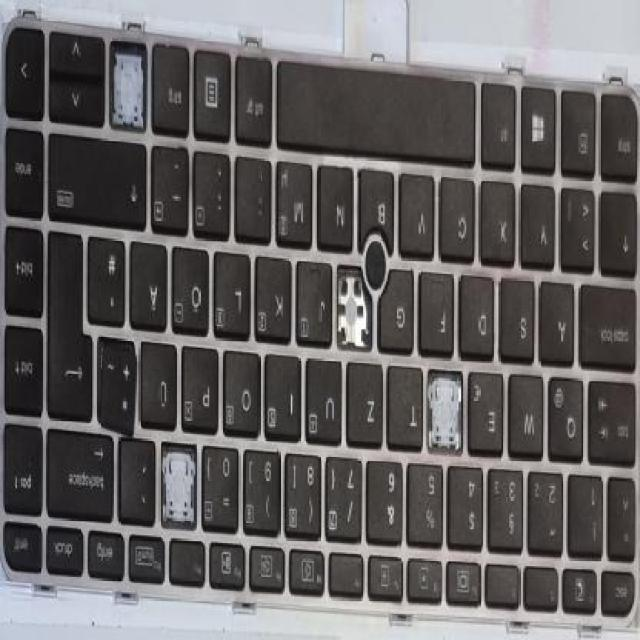Keyboard problems: (105, 31, 152, 136), (159, 431, 204, 532), (332, 257, 378, 355), (423, 367, 468, 458)
